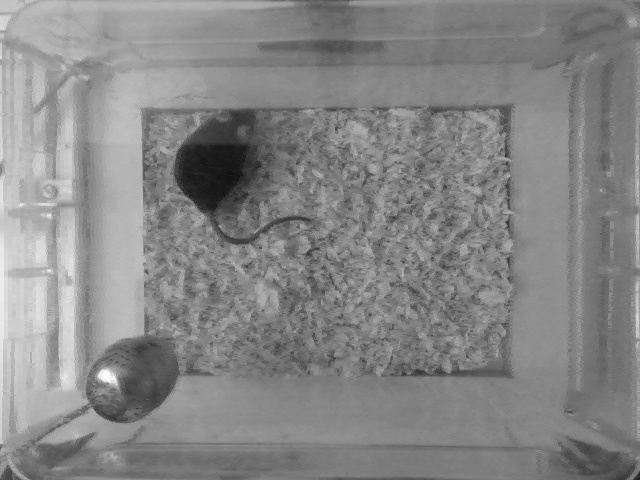mice: (167, 107, 313, 242)
